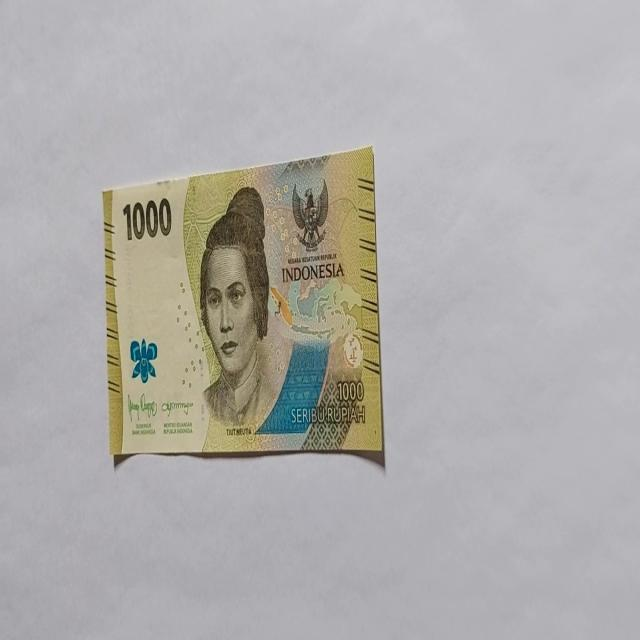seribu rupiah kertas: (102, 145, 384, 465)
